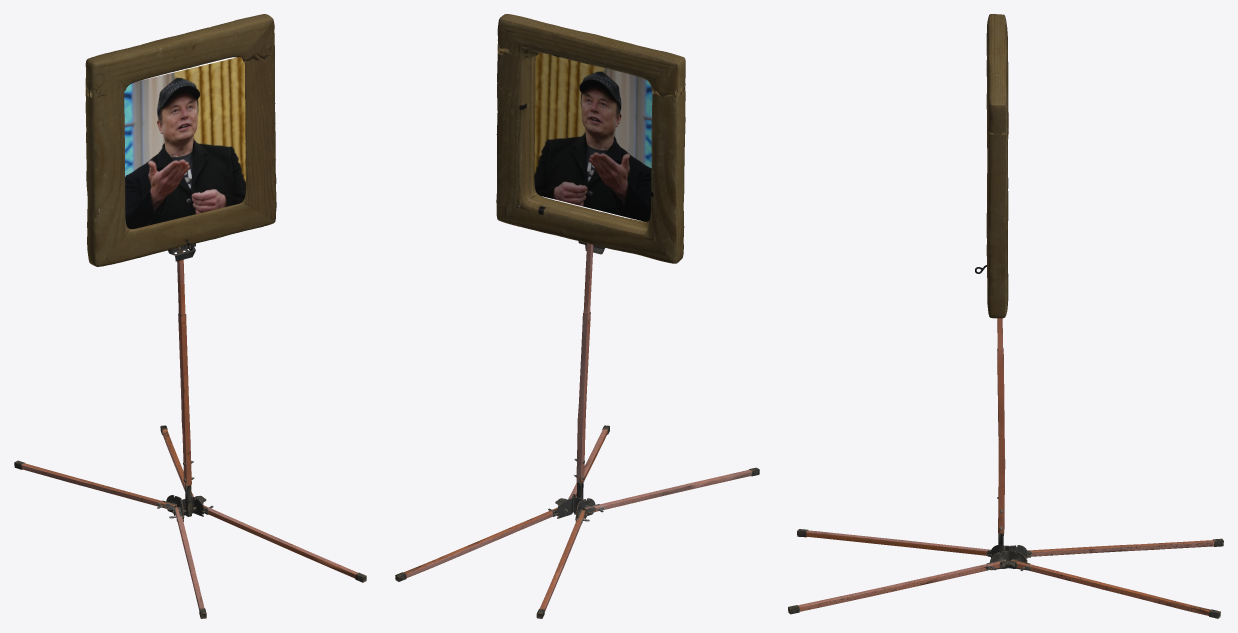
File: frame2.glb
The picture shows the model from 3 angles, left to right: view 1: azimuth 30°, elevation 25°; view 2: azimuth 150°, elevation 25°; view 3: azimuth 270°, elevation 25°; orthographic projection. The views are drawn at different scales.
Parts seen in each view (by area): view 1: Aset_wood_decorative_S_uijufcgiw_LOD0.001; view 2: Aset_wood_decorative_S_uijufcgiw_LOD0.001; view 3: Aset_wood_decorative_S_uijufcgiw_LOD0.001.
Part boxes in pixels (x1=…): Aset_wood_decorative_S_uijufcgiw_LOD0.001: x1=14, y1=14, x2=366, y2=618; Aset_wood_decorative_S_uijufcgiw_LOD0.001: x1=395, y1=14, x2=759, y2=618; Aset_wood_decorative_S_uijufcgiw_LOD0.001: x1=788, y1=14, x2=1223, y2=618.
Size of the model in its own units: 1.06 by 2.72 by 2.08.
3 materials, 3 textured.
